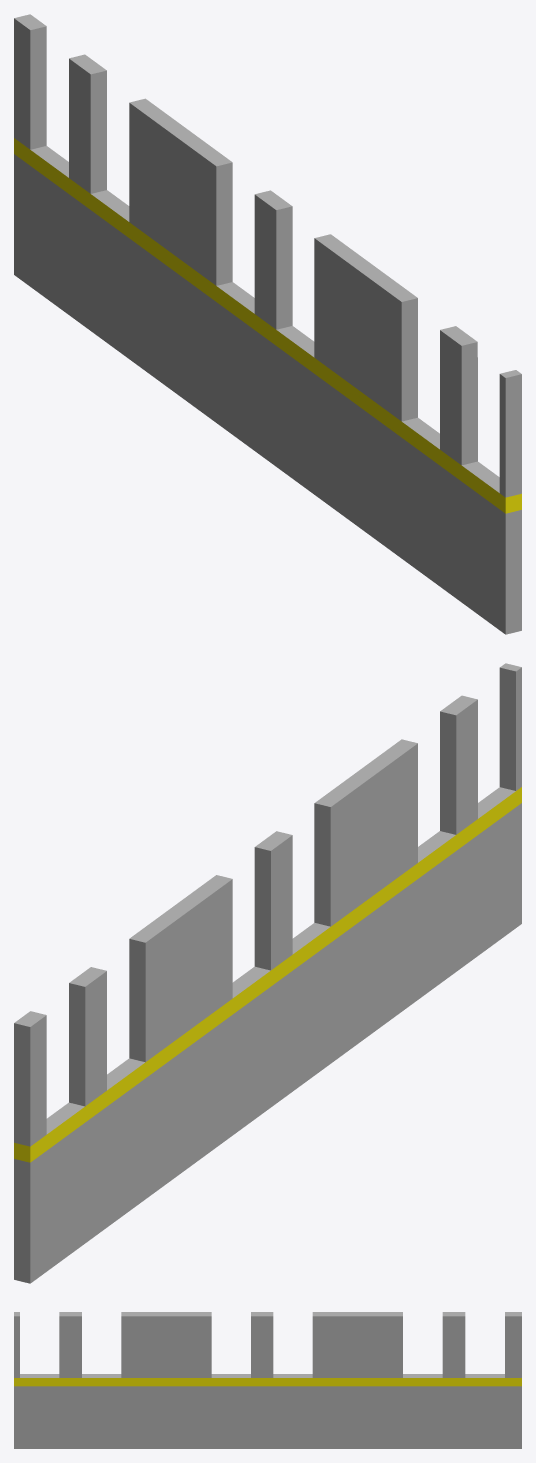
The model's file is 4th room front wall.fbx.
3 renders of one model, top to bottom at view 1: azimuth 30°, elevation 25°; view 2: azimuth 150°, elevation 25°; view 3: azimuth 270°, elevation 25°, orthographic. The views are drawn at different scales.
Parts seen in each view (by area): view 1: Cube.030, Cube.005, Cube.006; view 2: Cube.005, Cube.030, Cube.006; view 3: Cube.005, Cube.030, Cube.006.
Boxes of the visible parts, x1=… form: Cube.030: x1=320, y1=238, x2=521, y2=634; Cube.005: x1=134, y1=103, x2=336, y2=498; Cube.006: x1=14, y1=14, x2=150, y2=362; Cube.005: x1=135, y1=799, x2=336, y2=1194; Cube.030: x1=320, y1=663, x2=521, y2=1058; Cube.006: x1=14, y1=934, x2=151, y2=1283; Cube.005: x1=205, y1=1312, x2=397, y2=1448; Cube.030: x1=14, y1=1312, x2=205, y2=1448; Cube.006: x1=396, y1=1312, x2=521, y2=1448.
Size of the model in its own units: 101 by 1517 by 5267.
